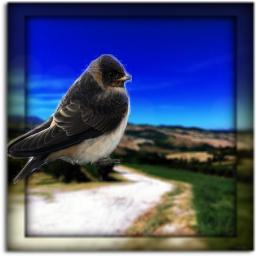Swallow: (6, 54, 132, 184)
